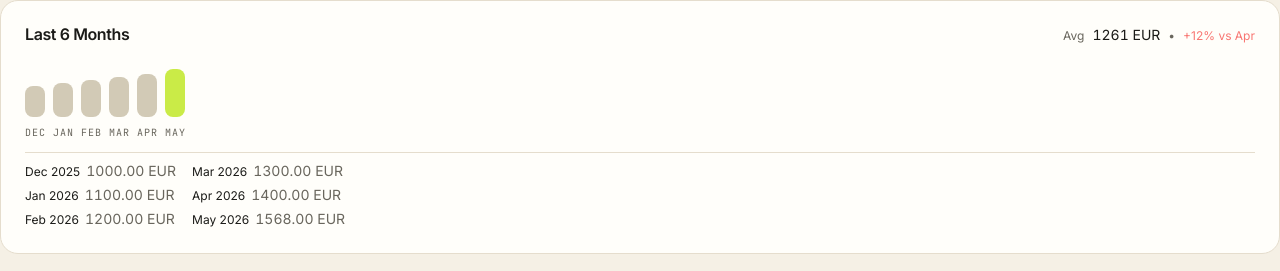
<MonthlyTrendCard /> › footer restores the multi-month list when the pointer leaves
Hover over the button with test id "month-label-4".
mouse_move(147, 132)  # box x1=137 y1=125 x2=157 y2=140
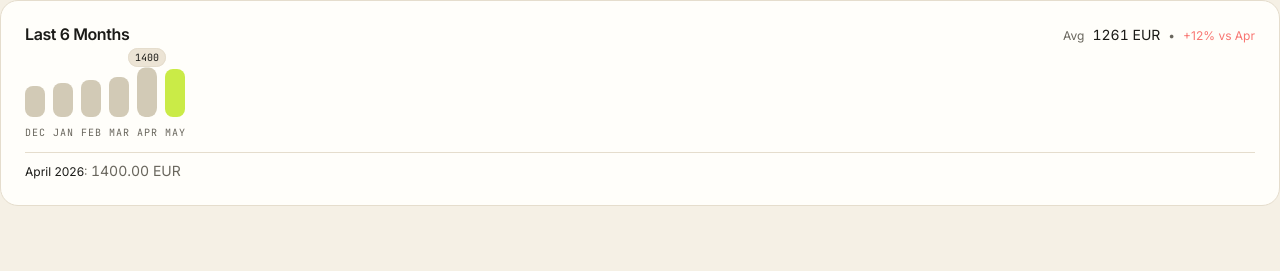
Move the pointer off the button with test id "month-label-4", box x1=137 y1=125 x2=157 y2=140
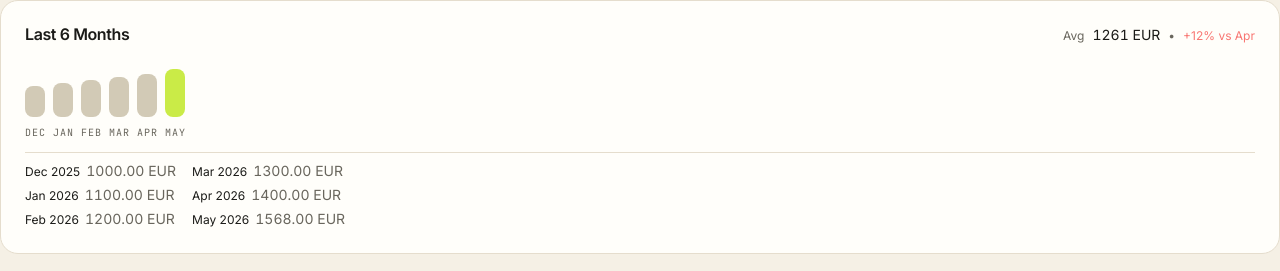
Now the element with test id "trend-footer" shows "Dec 2025", box x1=25 y1=164 x2=80 y2=179
Now the element with test id "trend-footer" shows "may 2026", box x1=192 y1=212 x2=249 y2=227
Now the element with test id "trend-footer" shows "1568.00 EUR", box x1=255 y1=210 x2=345 y2=227
